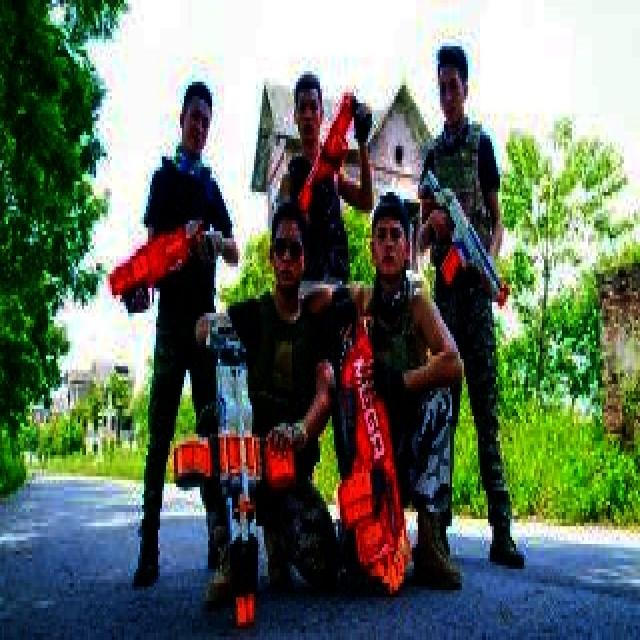Nerf gun: (170, 311, 302, 635), (330, 302, 410, 601), (416, 154, 512, 308), (101, 199, 215, 313), (290, 73, 366, 233)
